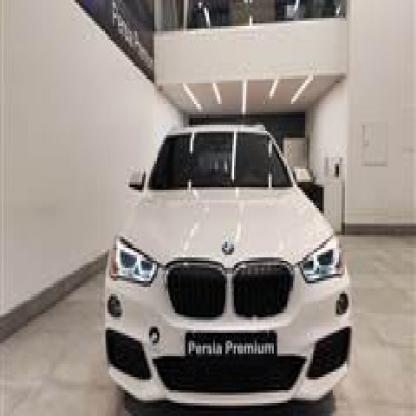Car: (90, 114, 354, 411)
